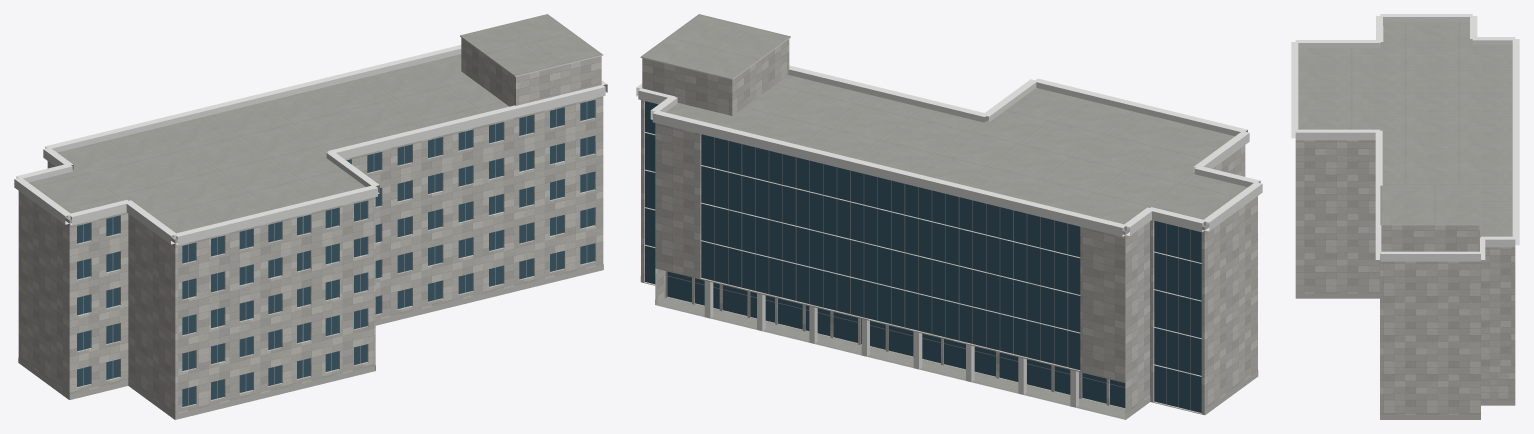
3 views of the same model, side by side, from view 1: azimuth 30°, elevation 25°; view 2: azimuth 150°, elevation 25°; view 3: azimuth 270°, elevation 25° (orthographic). The views are drawn at different scales.
Parts seen in each view (by area): view 1: cjFoodSafety__wall, cjFoodSafety__roof, cjFoodSafety__glass, cjFoodSafety__trim, cjFoodSafety__base, cjFoodSafety__frame; view 2: cjFoodSafety__glass, cjFoodSafety__roof, cjFoodSafety__wall, cjFoodSafety__trim, cjFoodSafety__frame, cjFoodSafety__column; view 3: cjFoodSafety__wall, cjFoodSafety__roof, cjFoodSafety__trim, cjFoodSafety__base.
Part boxes in pixels (x1,y1,x2,y2): cjFoodSafety__wall: (18, 38, 603, 419); cjFoodSafety__roof: (28, 14, 602, 240); cjFoodSafety__glass: (77, 100, 594, 406); cjFoodSafety__trim: (14, 36, 607, 245); cjFoodSafety__base: (18, 264, 603, 419); cjFoodSafety__frame: (83, 102, 587, 405); cjFoodSafety__glass: (645, 101, 1201, 412); cjFoodSafety__roof: (641, 14, 1247, 419); cjFoodSafety__wall: (641, 39, 1257, 419); cjFoodSafety__trim: (636, 37, 1262, 236); cjFoodSafety__frame: (667, 137, 1190, 410); cjFoodSafety__column: (704, 280, 1078, 407); cjFoodSafety__wall: (1295, 140, 1515, 419); cjFoodSafety__roof: (1298, 22, 1512, 256); cjFoodSafety__trim: (1291, 14, 1519, 261); cjFoodSafety__base: (1295, 293, 1515, 419).
Size of the model in its own units: 63.24 by 24 by 25.45.
Materials: 8 (2 with a texture image).
